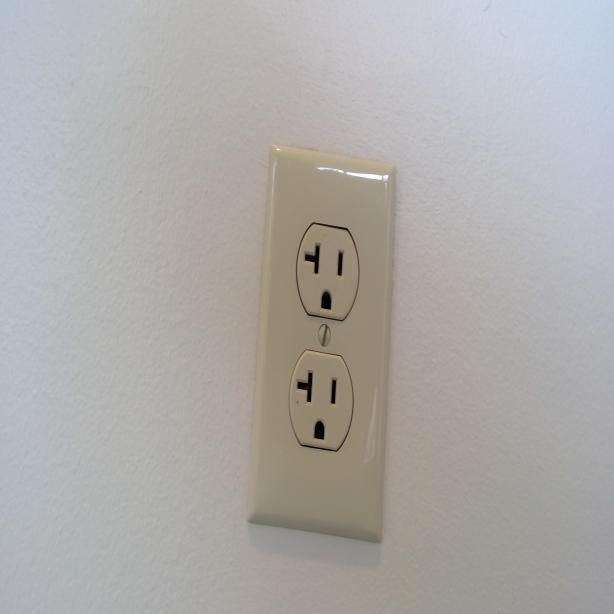typeb: (288, 349, 350, 453), (297, 227, 358, 320)
